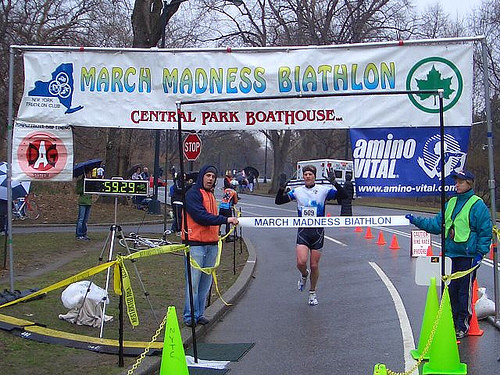vinyl banner: (11, 40, 484, 129), (344, 123, 473, 196), (10, 121, 78, 192)
